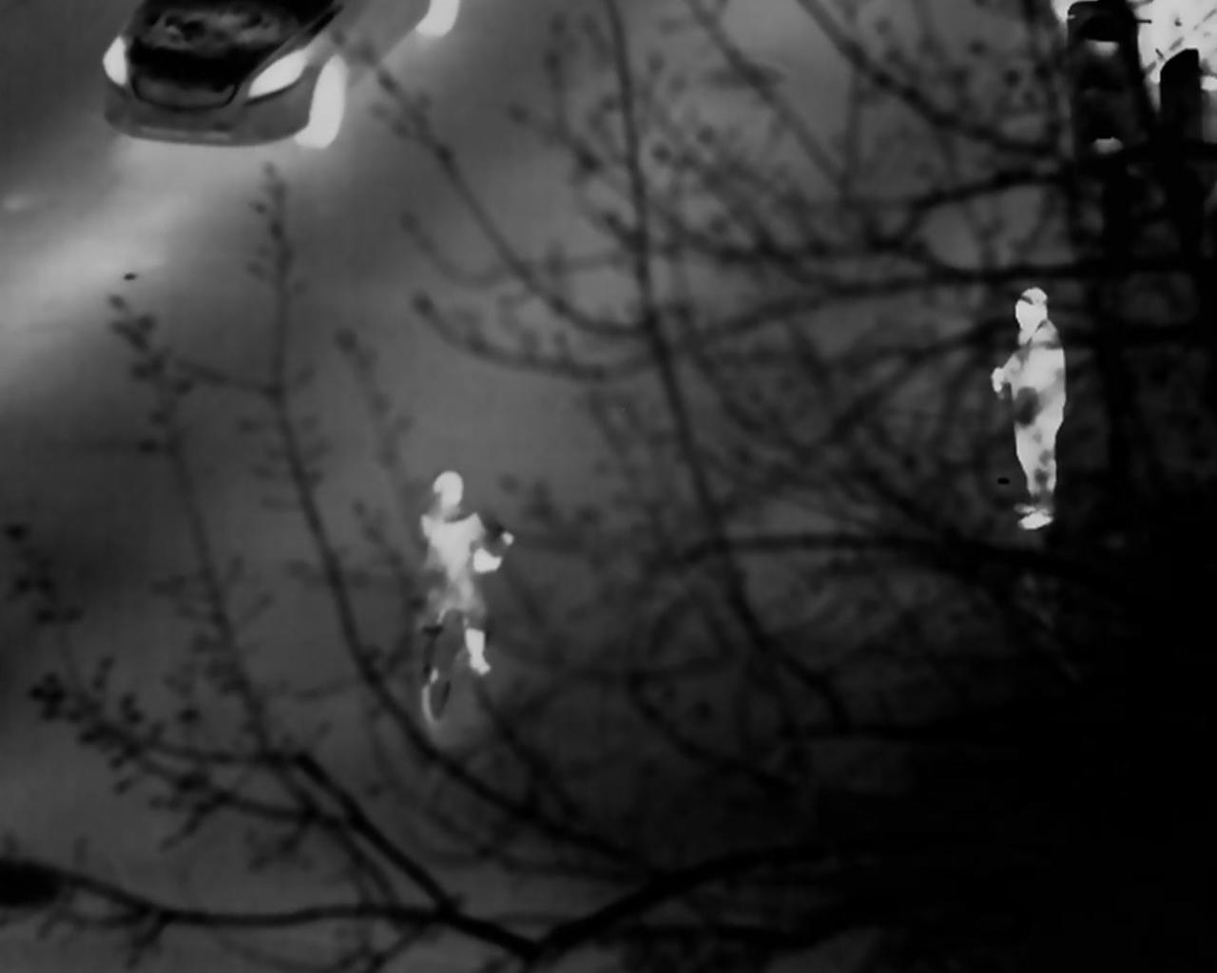person: (980, 283, 1075, 527), (418, 469, 509, 675)
